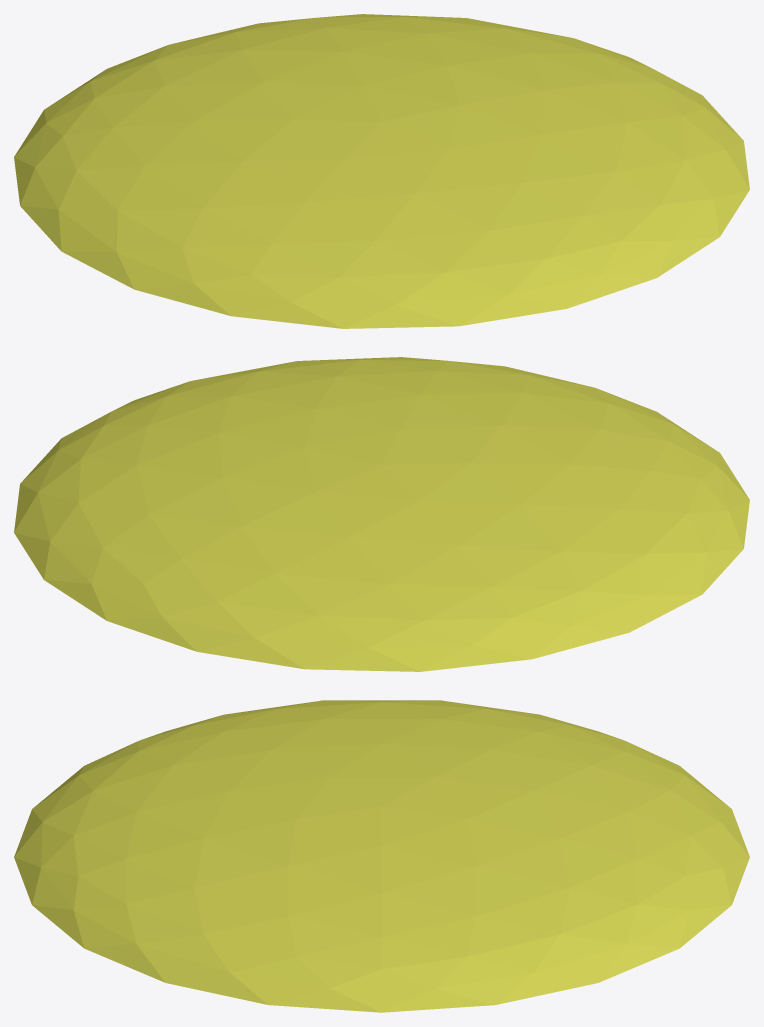
The model's file is PalmIsland.fbx.
3 views of the same model, one above another, from view 1: azimuth 30°, elevation 25°; view 2: azimuth 150°, elevation 25°; view 3: azimuth 270°, elevation 25° (orthographic).
Visible parts, largest first — view 1: Island; view 2: Island; view 3: Island.
Part boxes in pixels (box(x1,y1,x2,y2)): Island: box(14, 14, 749, 328); Island: box(14, 357, 749, 671); Island: box(14, 700, 749, 1012).
Bounding box in the file's own units: 619 × 47.34 × 619.
